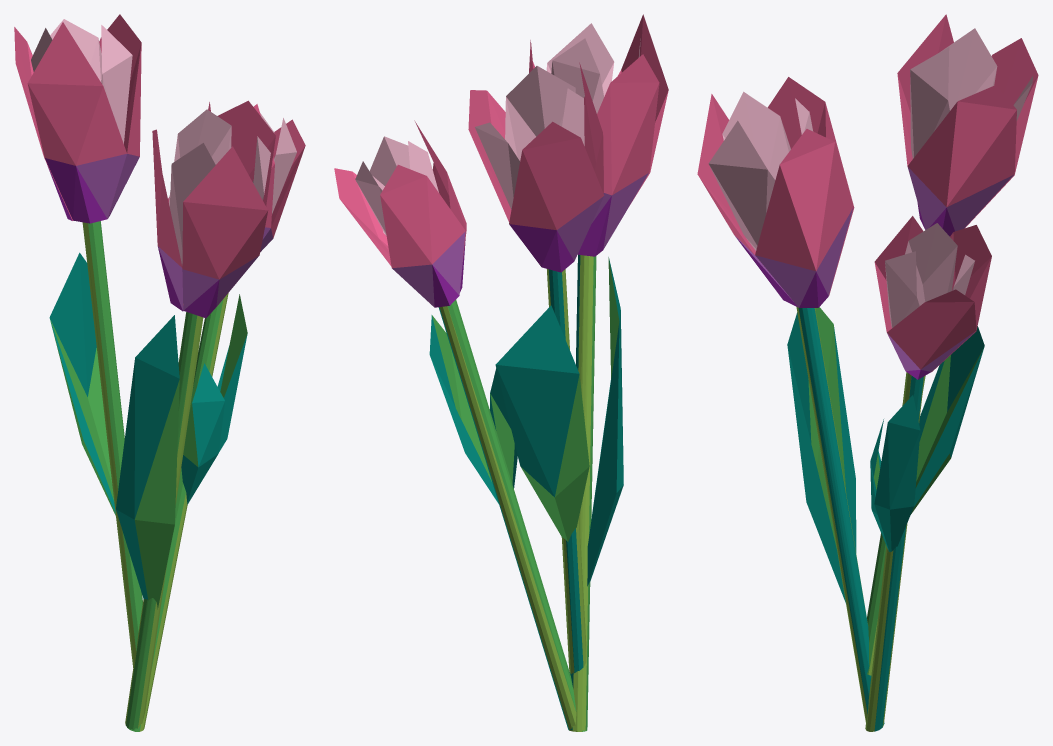
The model's file is Tulip.glb.
3 views of the same model, side by side, from view 1: azimuth 30°, elevation 25°; view 2: azimuth 150°, elevation 25°; view 3: azimuth 270°, elevation 25° (orthographic). The views are drawn at different scales.
Parts seen in each view (by area): view 1: group472026721, group941805466, group1160013864, group1524081558, group1653023134, group605848671, group1418125784, group1741665748, group1199946381, group875356185; view 2: group472026721, group1199946381, group1524081558, group941805466, group1741665748, group605848671, group1160013864, group1653023134, group875356185, group1418125784; view 3: group941805466, group472026721, group1199946381, group1160013864, group605848671, group1524081558, group875356185, group1741665748, group1653023134, group1418125784.
Part boxes in pixels (left/top/right/bottom): group472026721: left=14, top=14, right=141, bottom=223; group941805466: left=152, top=100, right=275, bottom=318; group1160013864: left=116, top=315, right=179, bottom=609; group1524081558: left=49, top=252, right=115, bottom=515; group1653023134: left=82, top=221, right=142, bottom=667; group605848671: left=125, top=312, right=203, bottom=729; group1418125784: left=181, top=363, right=224, bottom=504; group1741665748: left=127, top=293, right=228, bottom=731; group1199946381: left=208, top=102, right=305, bottom=251; group875356185: left=217, top=294, right=247, bottom=451; group472026721: left=468, top=62, right=604, bottom=272; group1199946381: left=334, top=120, right=466, bottom=307; group1524081558: left=495, top=305, right=589, bottom=541; group941805466: left=529, top=14, right=668, bottom=256; group1741665748: left=438, top=299, right=587, bottom=731; group605848671: left=569, top=254, right=596, bottom=730; group1160013864: left=587, top=257, right=623, bottom=586; group1653023134: left=547, top=269, right=586, bottom=673; group875356185: left=429, top=315, right=498, bottom=503; group1418125784: left=489, top=368, right=517, bottom=488; group941805466: left=697, top=77, right=854, bottom=307; group472026721: left=897, top=14, right=1038, bottom=236; group1199946381: left=874, top=216, right=991, bottom=379; group1160013864: left=787, top=307, right=856, bottom=603; group605848671: left=796, top=306, right=884, bottom=725; group1524081558: left=911, top=326, right=984, bottom=513; group875356185: left=874, top=395, right=920, bottom=551; group1741665748: left=865, top=372, right=924, bottom=731; group1653023134: left=867, top=375, right=925, bottom=675; group1418125784: left=870, top=419, right=889, bottom=551.
Size of the model in its own units: 0.4953 by 1.24 by 0.5494.
